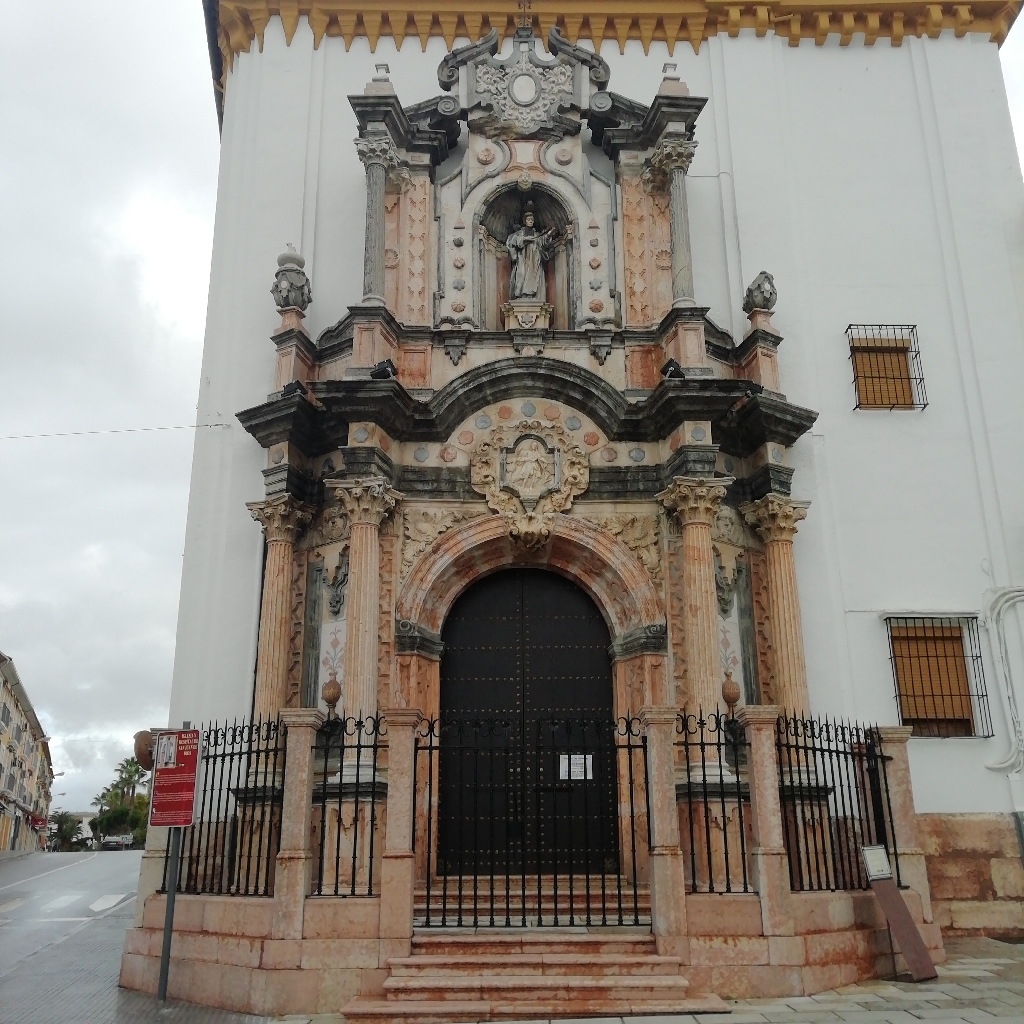arco-medio-punto: (416, 530, 642, 660), (473, 176, 580, 250)
